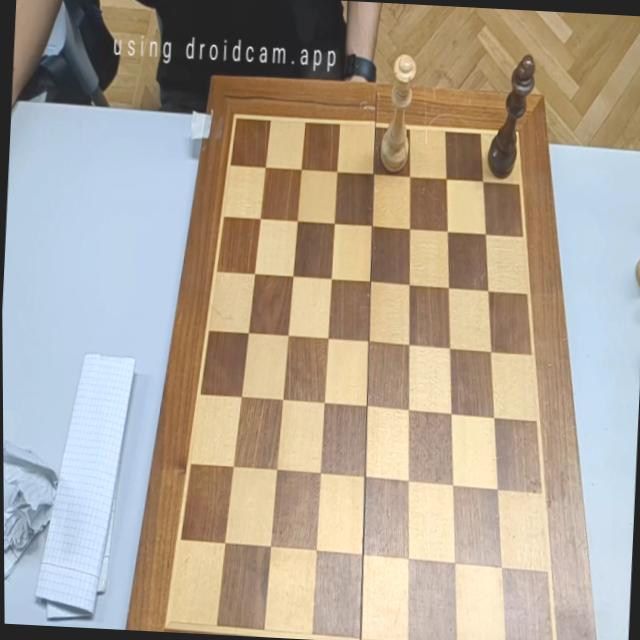black_king: (486, 52, 537, 180)
white_queen: (379, 54, 418, 174)
